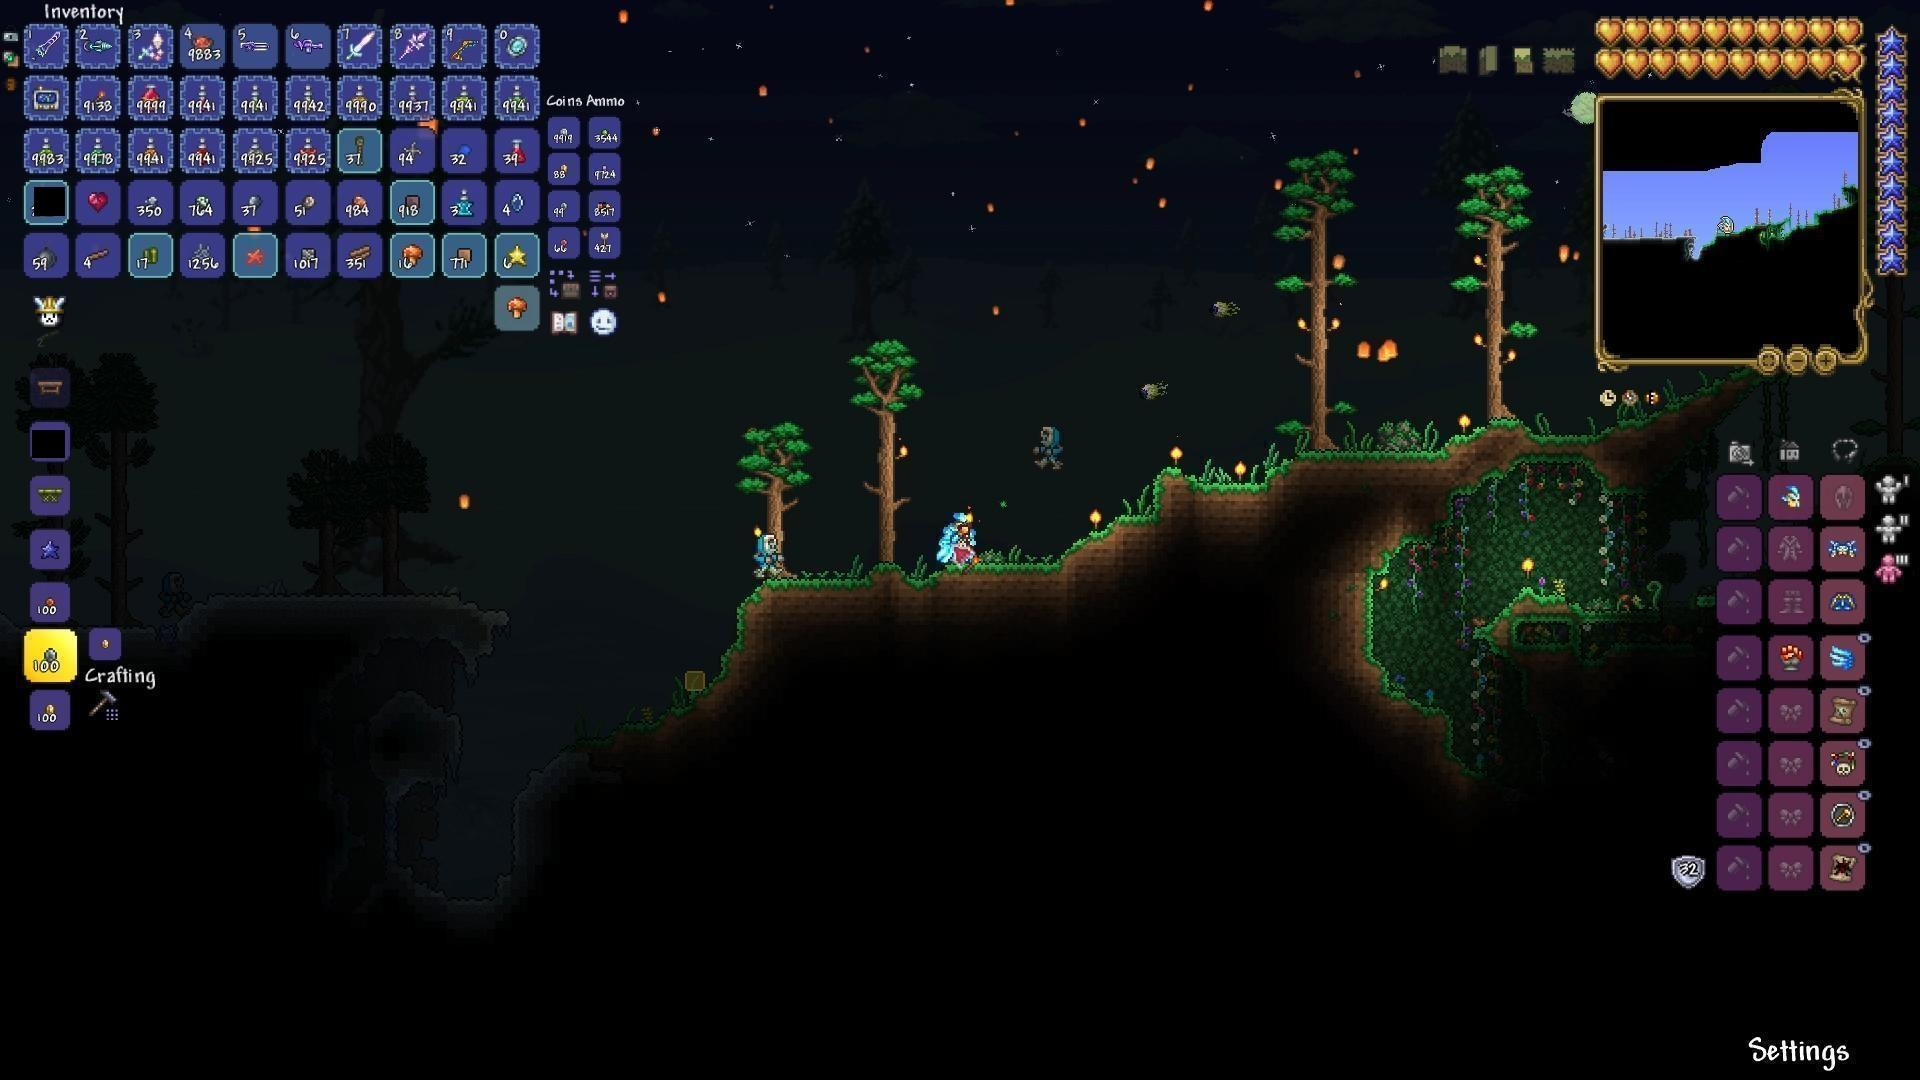wood: (345, 244, 375, 273)
workbench: (34, 376, 66, 404)
